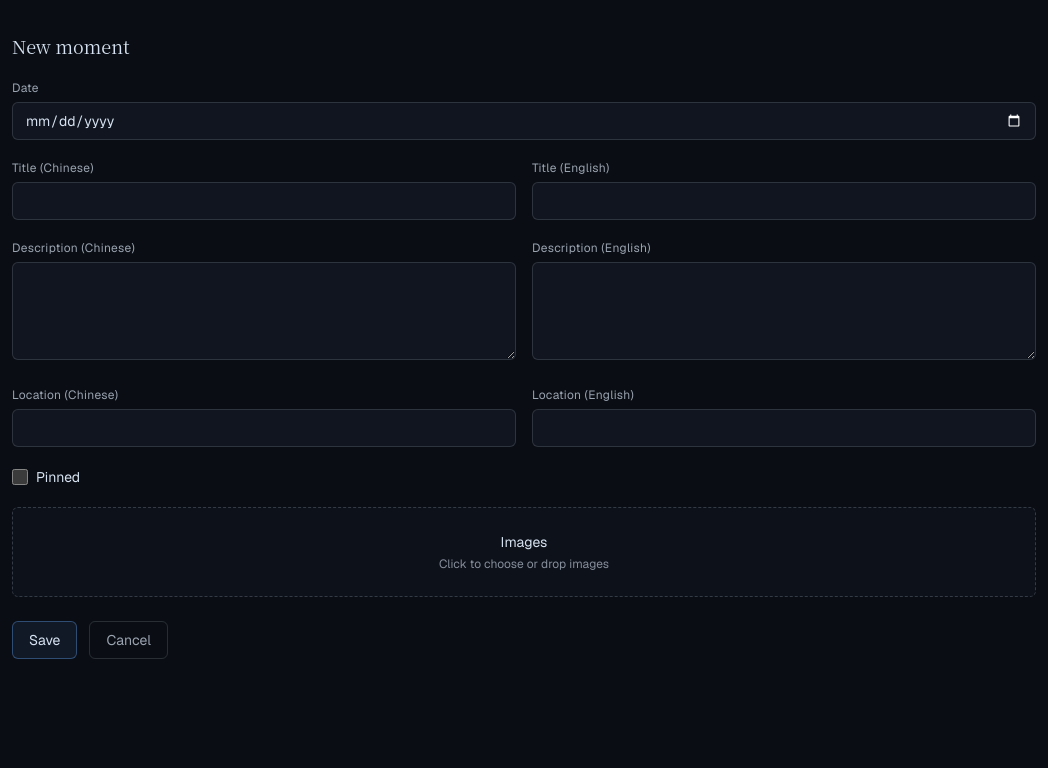
Scenario: MomentForm create mode › blocks submit when the date is empty
Type "登山" into the field labelled "Title (Chinese)" at (264, 201), box [12,182,516,220]
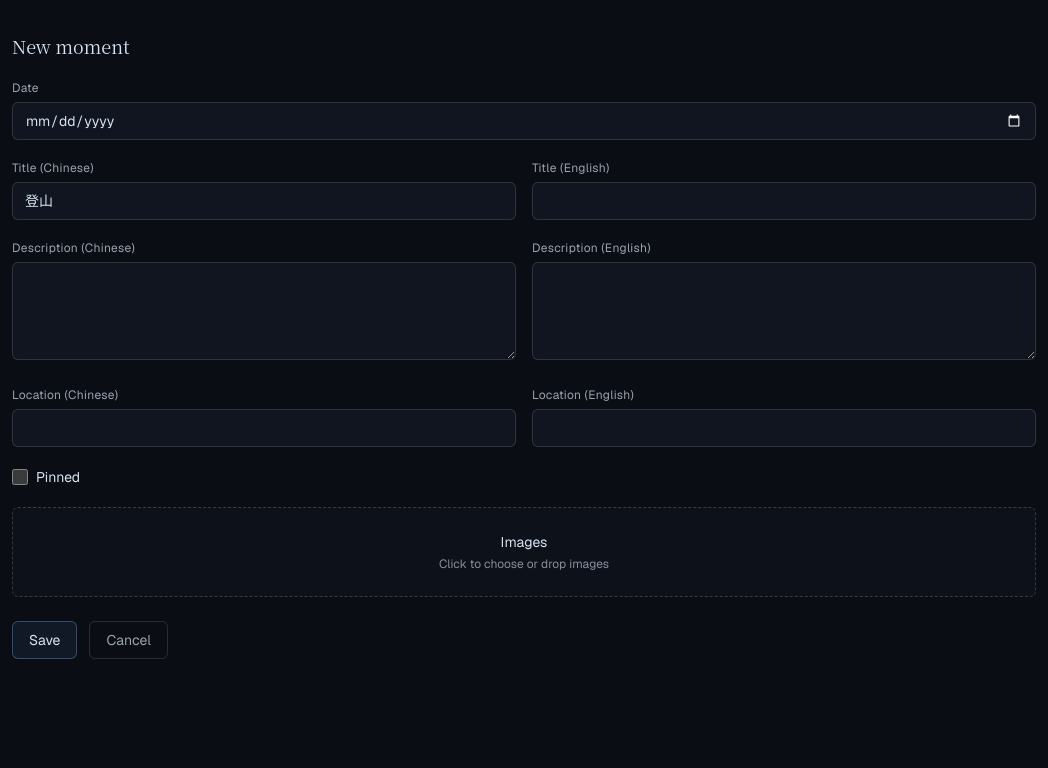
Click the button "Save" at (45, 640), box [12,621,78,659]
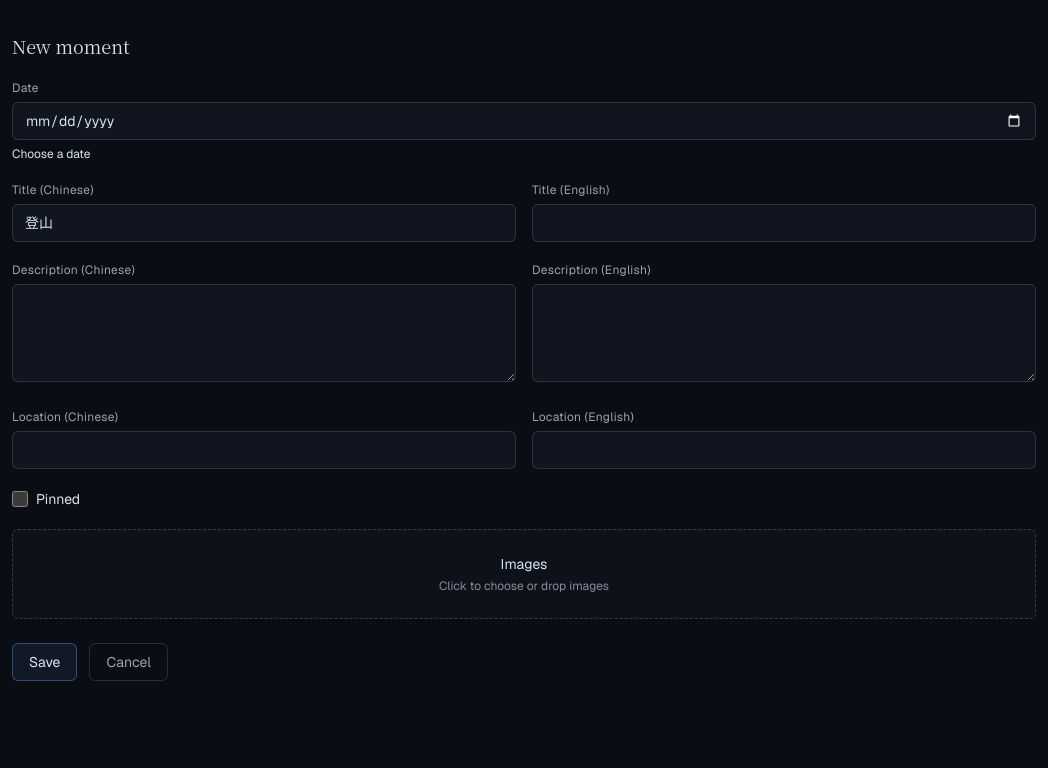
Now the text "Choose a date" is shown, box [12,146,90,162]
